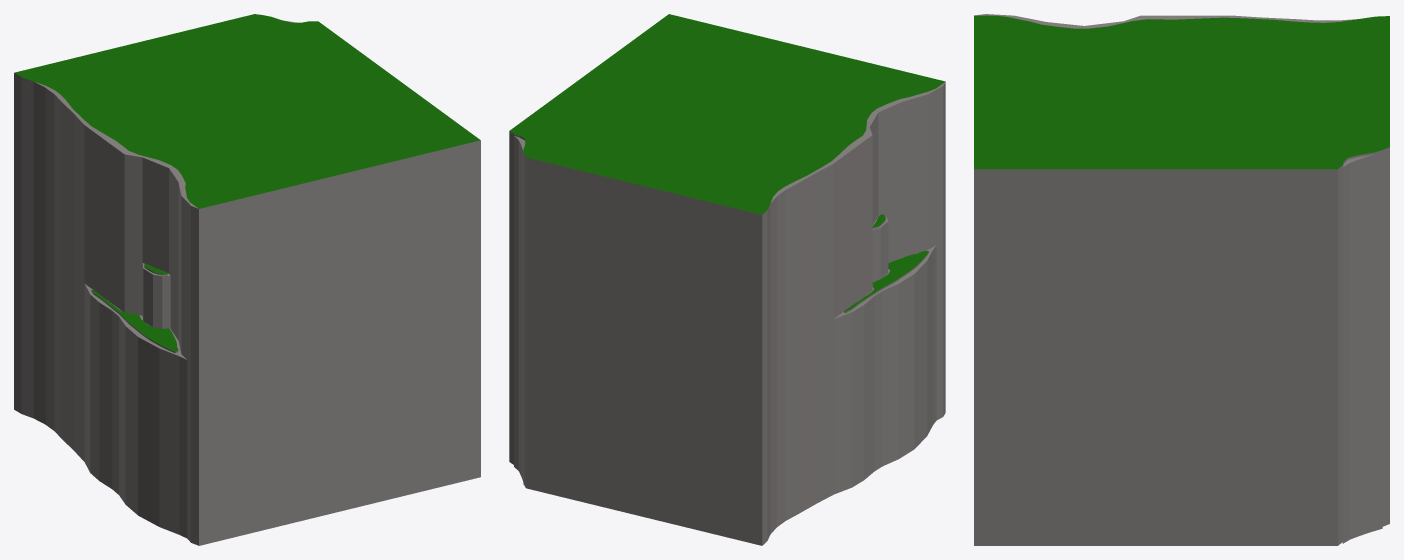
File: WTP.fbx
3 views of the same model, side by side, from view 1: azimuth 30°, elevation 25°; view 2: azimuth 150°, elevation 25°; view 3: azimuth 270°, elevation 25° (orthographic). The views are drawn at different scales.
Visible parts, largest first — view 1: Plane.023; view 2: Plane.023; view 3: Plane.023.
Boxes of the visible parts, x1,y1,x2,y2 form: Plane.023: (14,14,480,545); Plane.023: (509,14,945,545); Plane.023: (974,14,1389,545).
Size of the model in its own units: 92.04 by 101 by 100.
